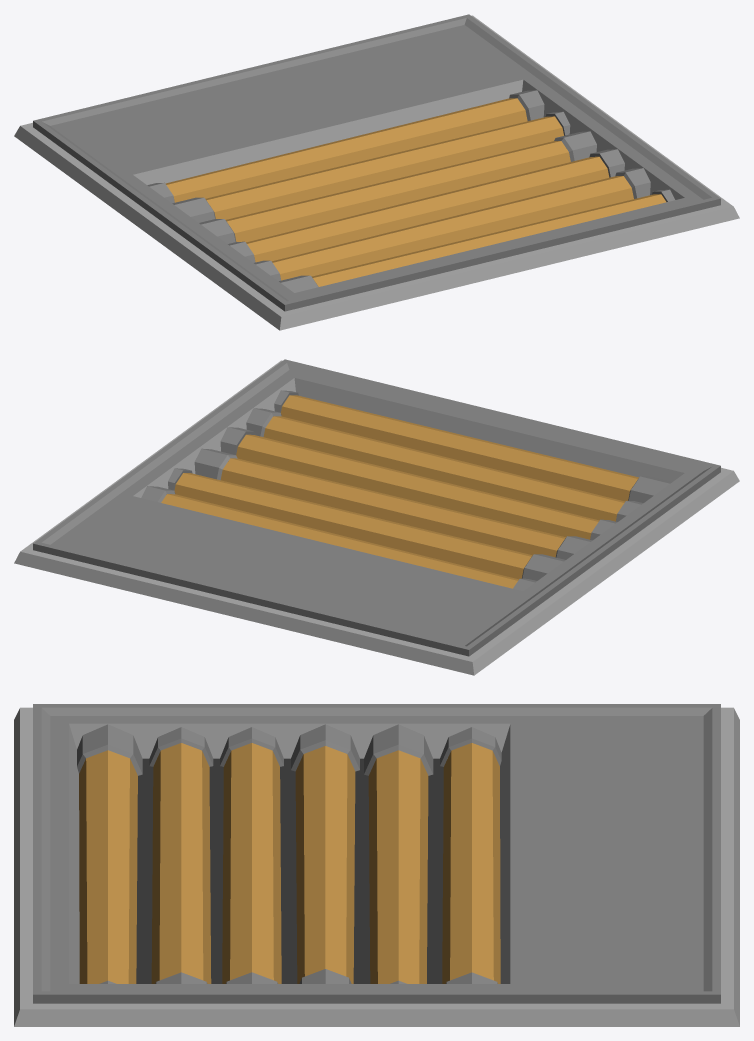
File: RoofTile_Sides_Pipes.glb
3 views of the same model, one above another, from view 1: azimuth 30°, elevation 25°; view 2: azimuth 150°, elevation 25°; view 3: azimuth 270°, elevation 25° (orthographic). The views are drawn at different scales.
Visible parts, largest first — view 1: RoofTile_Sides_Pipes; view 2: RoofTile_Sides_Pipes; view 3: RoofTile_Sides_Pipes.
Part boxes in pixels (x1,y1,x2,y2): RoofTile_Sides_Pipes: (14, 14, 739, 330); RoofTile_Sides_Pipes: (14, 359, 739, 675); RoofTile_Sides_Pipes: (14, 704, 739, 1026).
Size of the model in its own units: 2 by 0.1134 by 2.
